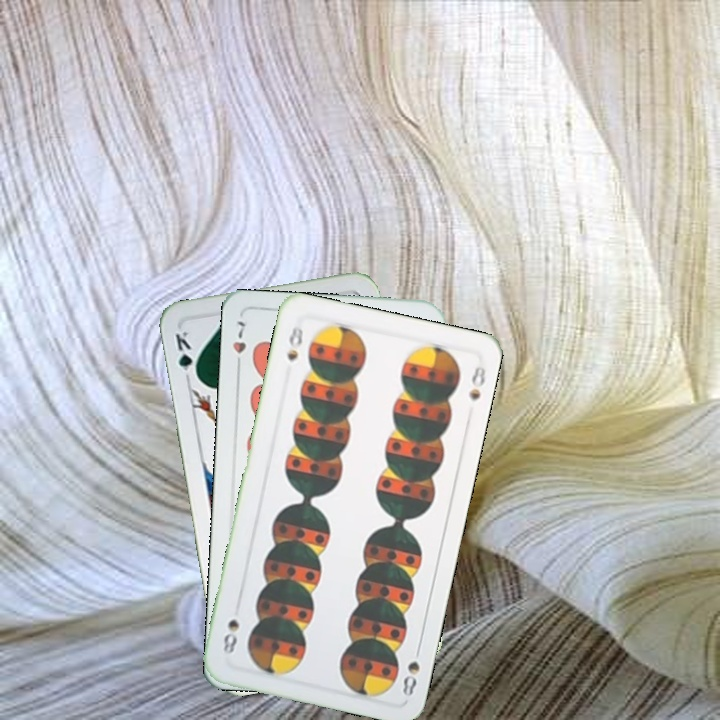GK: (171, 326, 200, 385)
H7: (229, 317, 249, 374)
S8: (398, 641, 424, 699), (283, 322, 306, 364)
